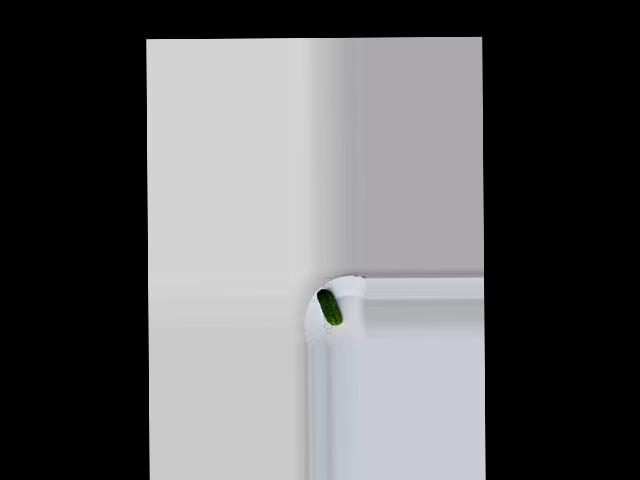cucumber: (317, 289, 342, 325)
